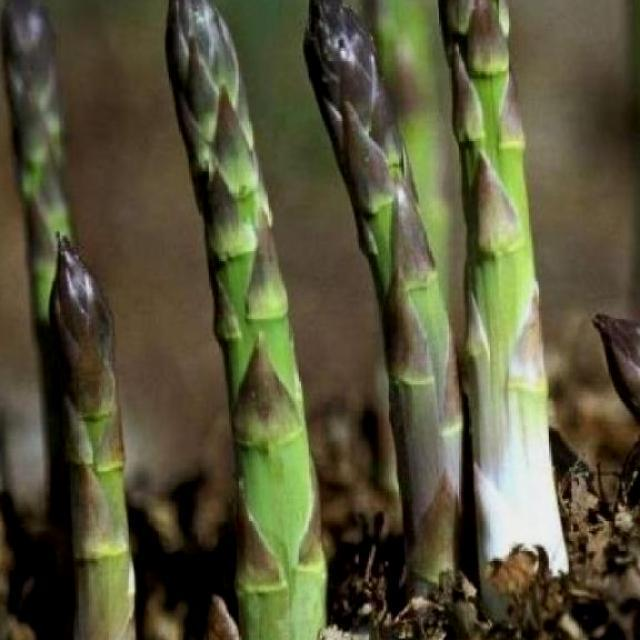aspargus: (162, 0, 328, 640)
